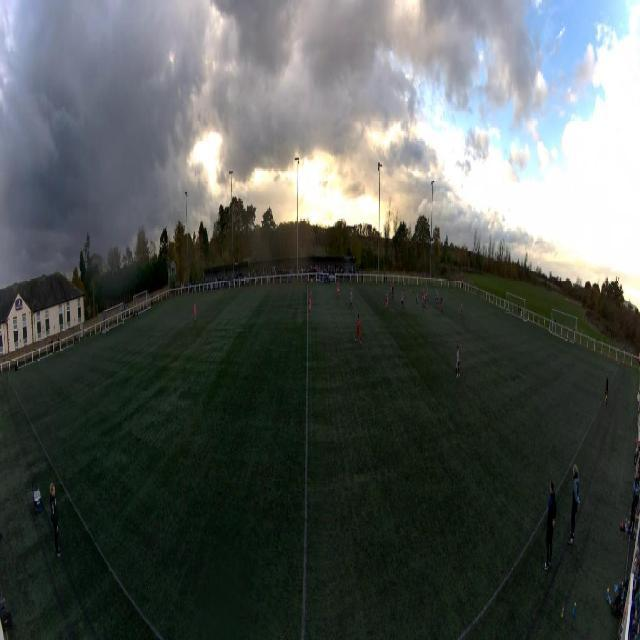ball: (410, 289, 411, 293)
player: (356, 314, 362, 345), (456, 342, 461, 379), (308, 290, 312, 316), (349, 289, 353, 310), (401, 292, 405, 312), (336, 282, 340, 301), (385, 291, 389, 310), (422, 294, 426, 310), (460, 301, 463, 320), (391, 283, 394, 300), (440, 298, 443, 314), (415, 291, 418, 307), (426, 285, 429, 300), (403, 288, 406, 303), (436, 294, 439, 308), (421, 290, 424, 304), (194, 302, 196, 321), (425, 288, 427, 302), (390, 283, 392, 297), (436, 289, 438, 303), (504, 303, 506, 317), (403, 279, 406, 288), (435, 287, 437, 297)
